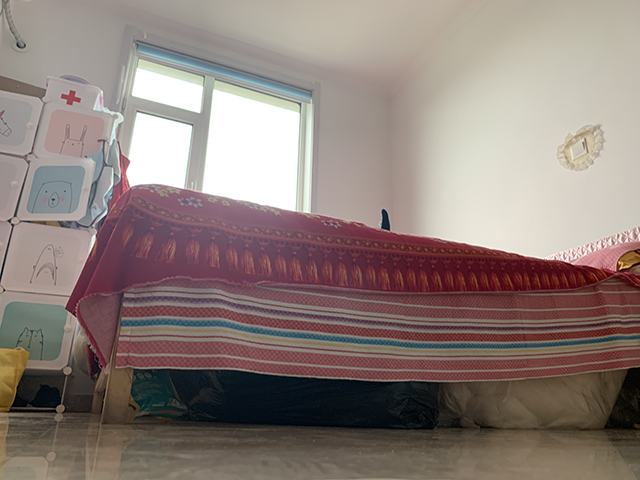bed: (64, 182, 640, 425)
